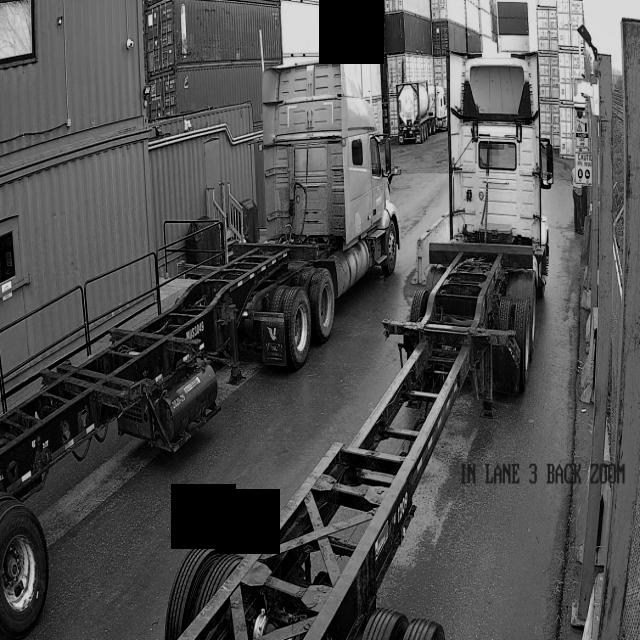truck_without_container: (0, 60, 400, 637), (166, 53, 553, 640)
